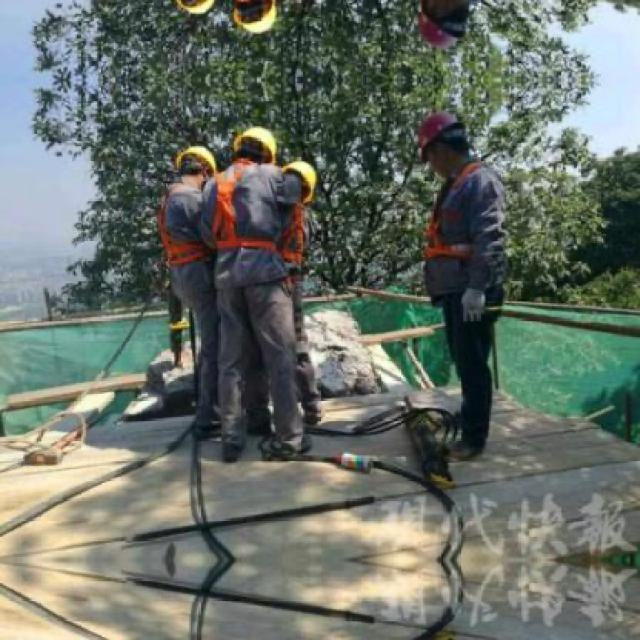Arnes_seguridad: (422, 163, 499, 262), (210, 162, 278, 252), (160, 185, 205, 270), (275, 200, 307, 265)
